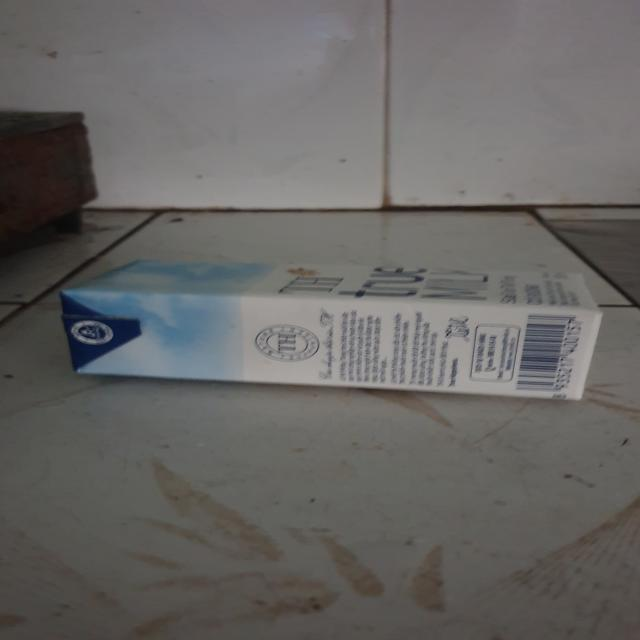TH: (60, 268, 602, 399)
